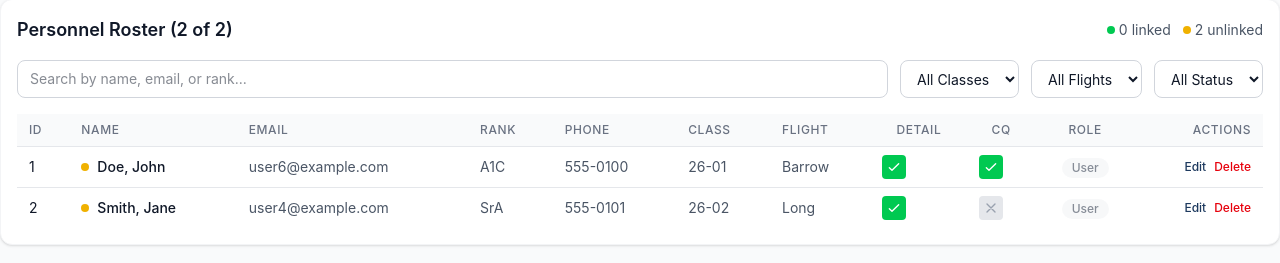
Test: PersonnelRosterTable › should filter by class
Select "26-01" in the 1st dropdown showing "All Classes": (960, 79) [900,60,1019,98]
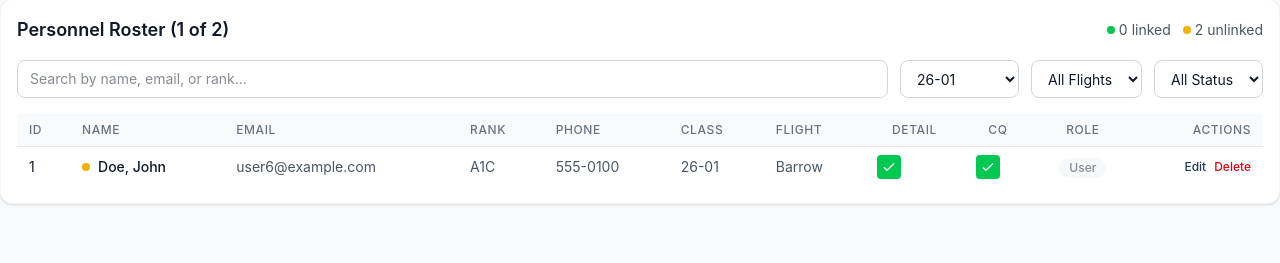
expect the text "Doe, John" is shown: met, box [98,157,166,177]
expect the heading "Personnel Roster (1 of 2)" is shown: met, box [17,16,229,44]
expect the text "Smith, Jane" is gone: met
